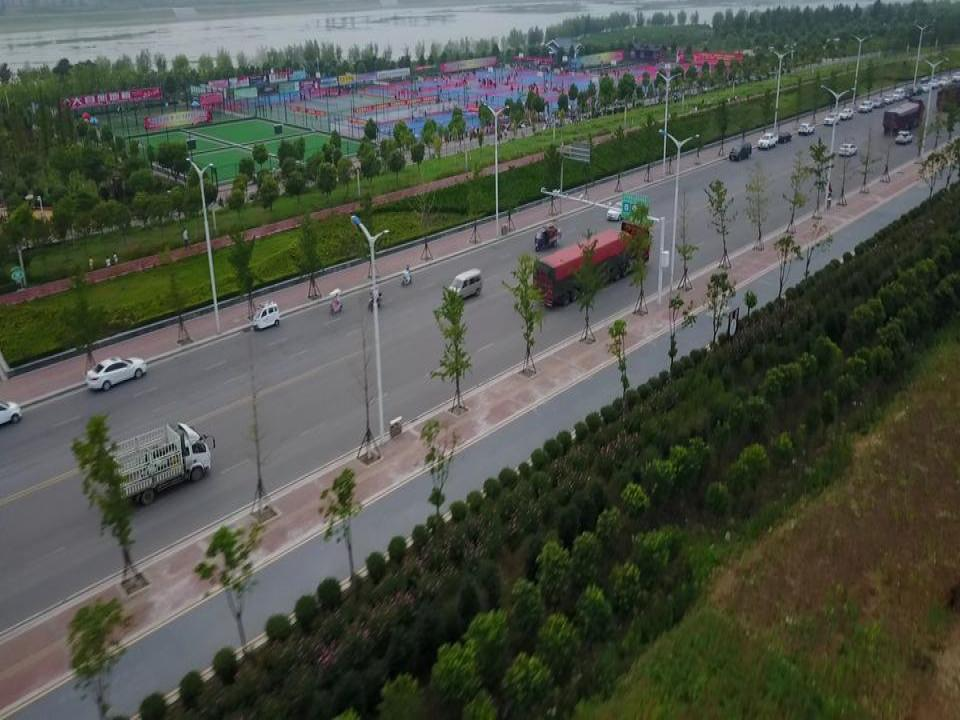car: (85, 356, 146, 391), (606, 199, 635, 221), (757, 134, 779, 150), (894, 131, 914, 144), (838, 144, 858, 156), (798, 121, 815, 135), (858, 99, 873, 113), (823, 112, 840, 124), (777, 130, 792, 142), (839, 108, 853, 120), (872, 97, 886, 108), (938, 77, 950, 87), (910, 87, 923, 96), (884, 93, 894, 104), (928, 79, 938, 89), (921, 83, 931, 92), (951, 72, 959, 83)
truck: (533, 219, 651, 308), (104, 422, 216, 506), (882, 98, 925, 134)
van: (447, 268, 481, 303), (728, 142, 752, 162), (892, 88, 905, 101), (901, 86, 912, 98)
